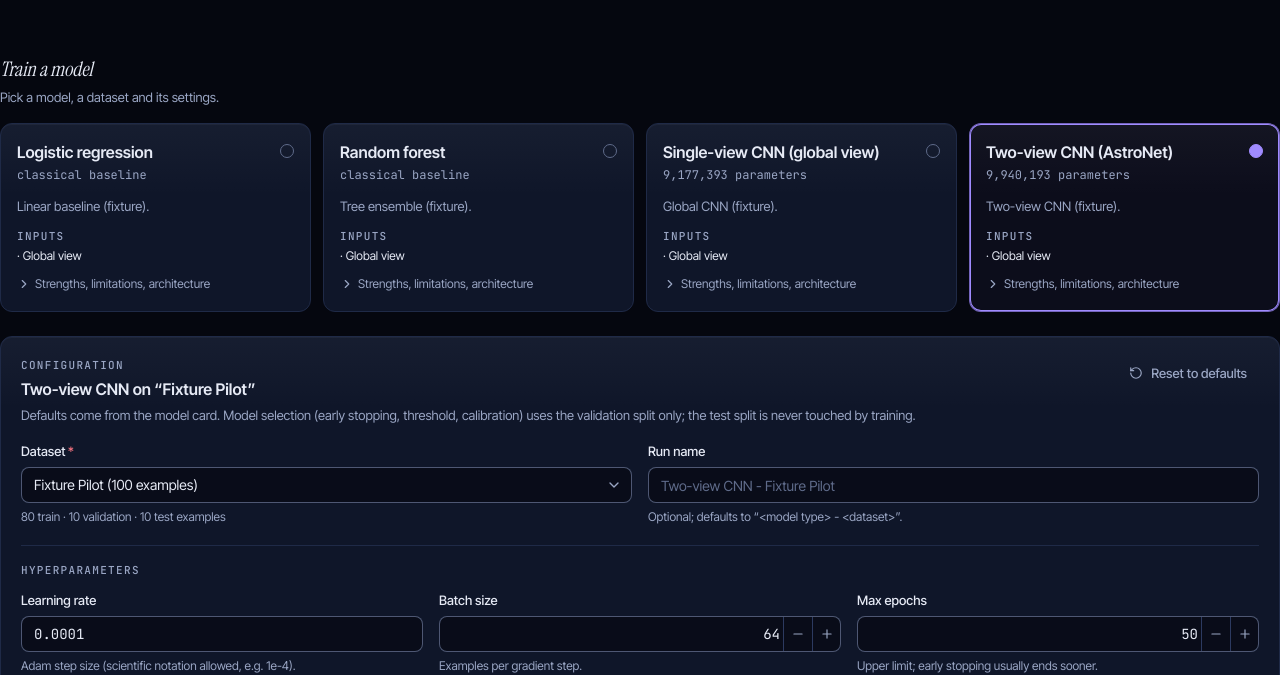
Model Training › shows the measured estimate, validates the config and starts a run
# An invalid learning rate blocks the request.
Replace the text in the field labelled "Learning rate" with "0". click: (222,634)
box: [21, 616, 423, 652]
(page scrolled)
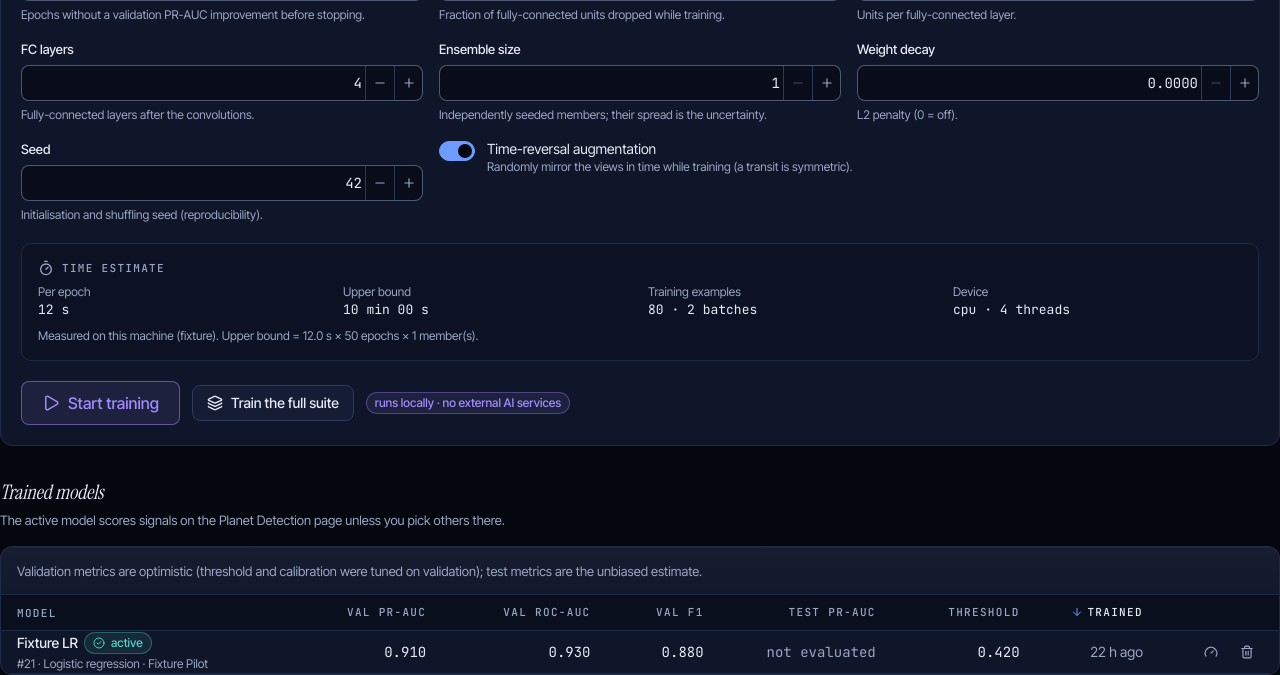
Click the button "Start training". click: (100,403)
box: [21, 381, 180, 425]
(page scrolled)
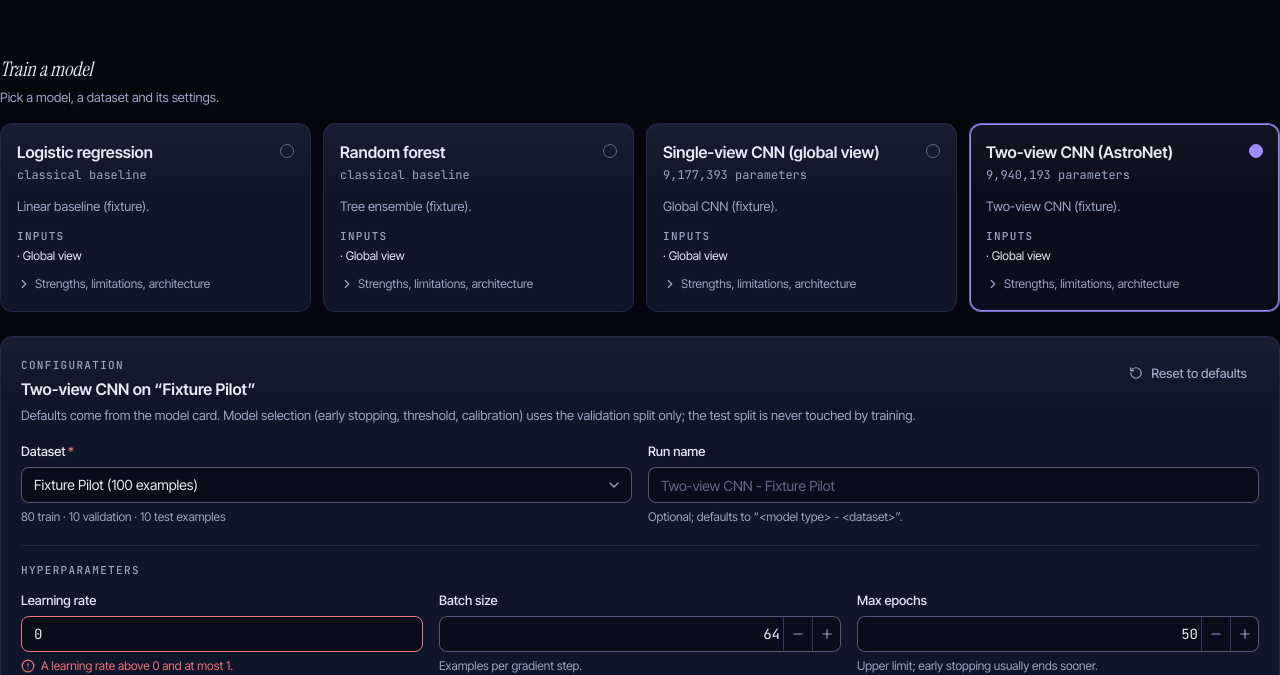
Result: the text "A learning rate above 0 and at most 1." is shown at [41, 658, 233, 674]
# Switch to logistic regression: its own grid fields, and the run starts.
Click the radio button labelled "Logistic regression classical baseline". click: (156,162)
box: [17, 140, 294, 184]
(page scrolled)
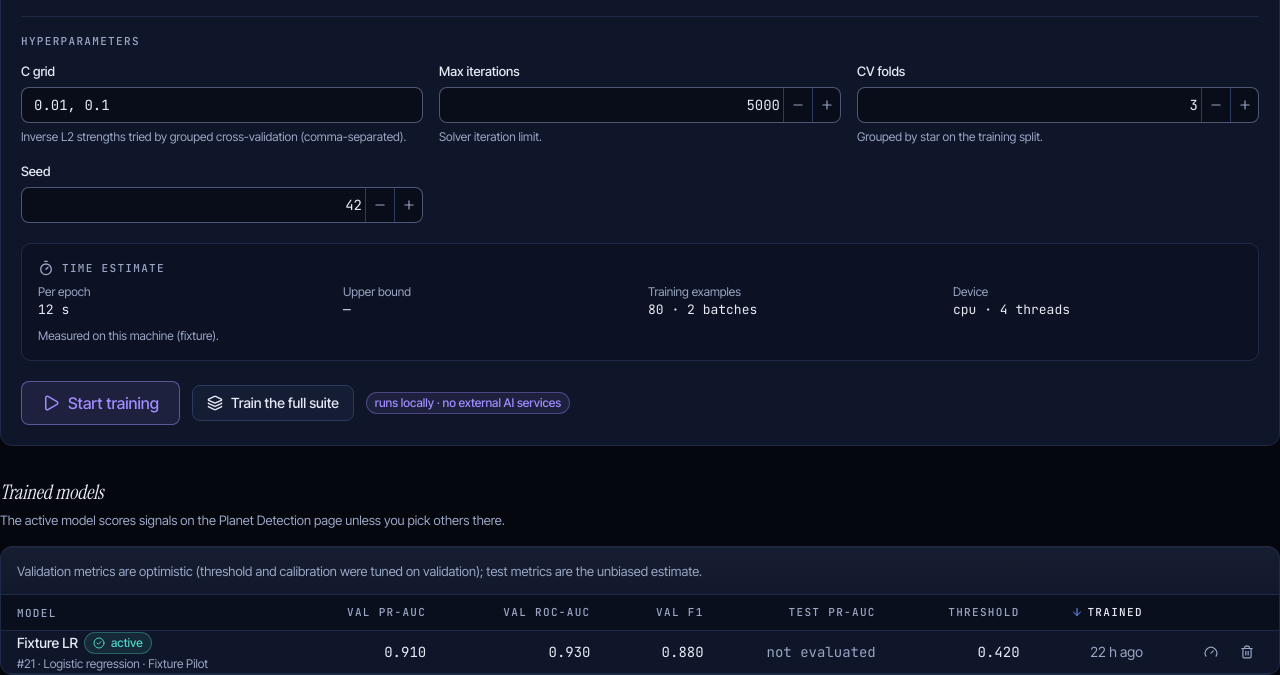
Result: the field labelled "C grid" holds "0.01, 0.1" at [21, 87, 423, 123]
Click the button "Start training". click: (100,403)
box: [21, 381, 180, 425]
(page scrolled)
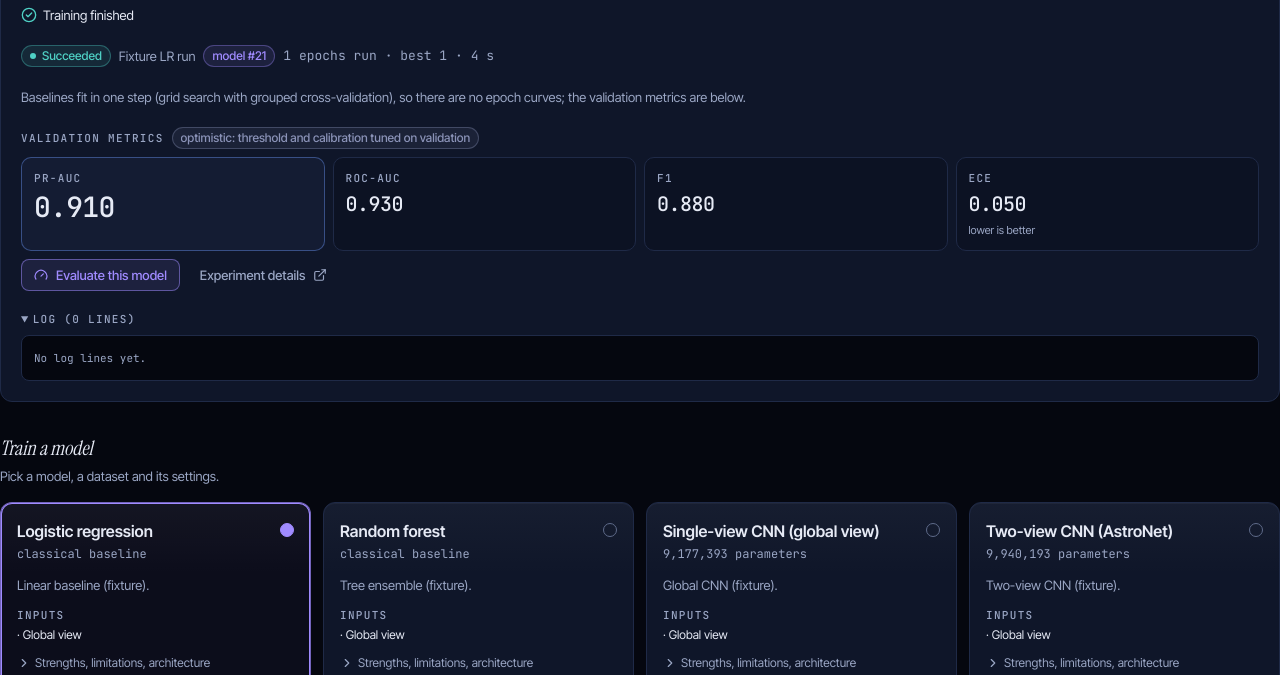
Result: the text "Training finished" is shown at [21, 7, 134, 23]
